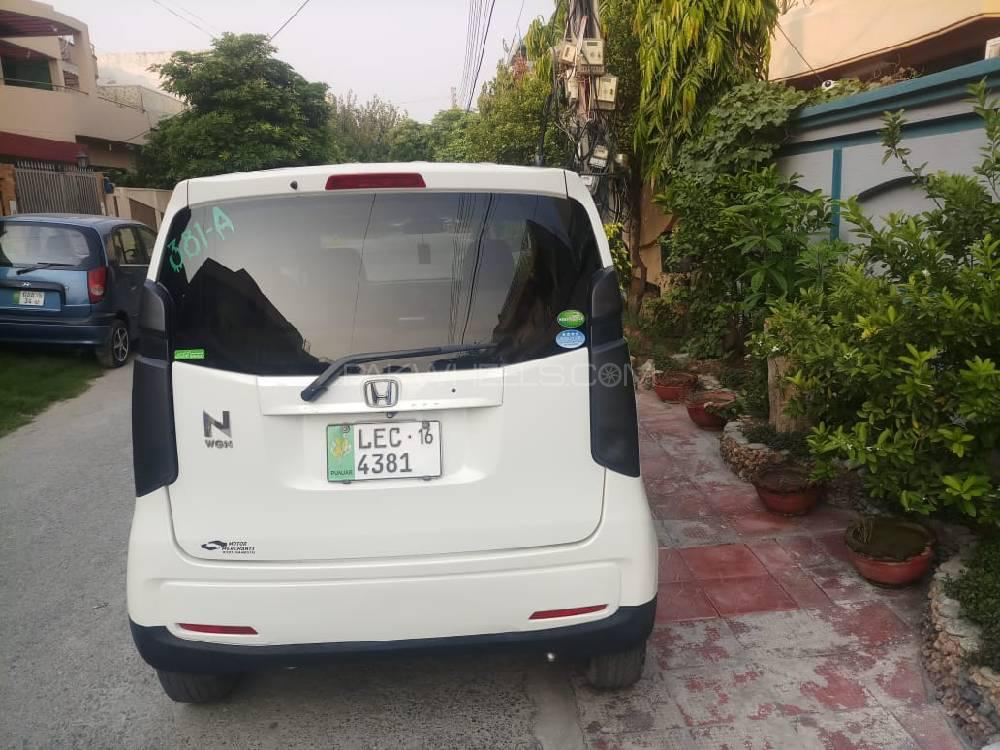license plate: (327, 421, 446, 483)
